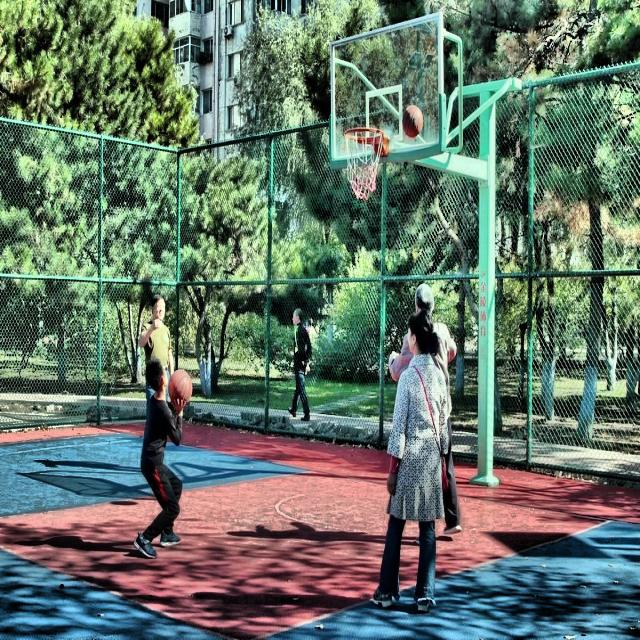board: (168, 370, 192, 405), (403, 106, 424, 138)
rim: (344, 128, 384, 198)
